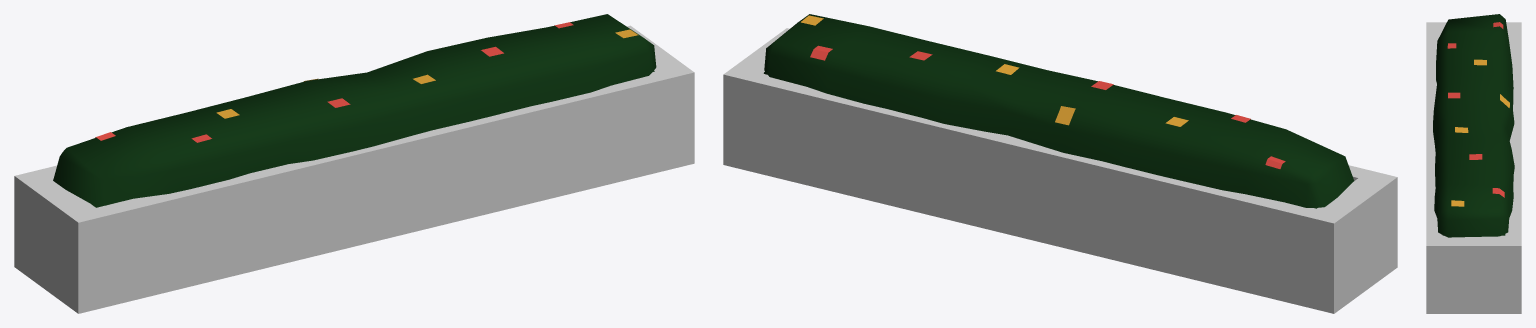
Rendered from OuterFlower.fbx.
3 renders of one model, left to right at view 1: azimuth 30°, elevation 25°; view 2: azimuth 150°, elevation 25°; view 3: azimuth 270°, elevation 25°, orthographic. The views are drawn at different scales.
Visible parts, largest first — view 1: 큐브.005; view 2: 큐브.005; view 3: 큐브.005.
Part boxes in pixels (left/top/right/bottom): 큐브.005: left=14, top=14, right=694, bottom=313; 큐브.005: left=723, top=14, right=1397, bottom=313; 큐브.005: left=1426, top=14, right=1521, bottom=313.
Size of the model in its own units: 743 by 149 by 134.
